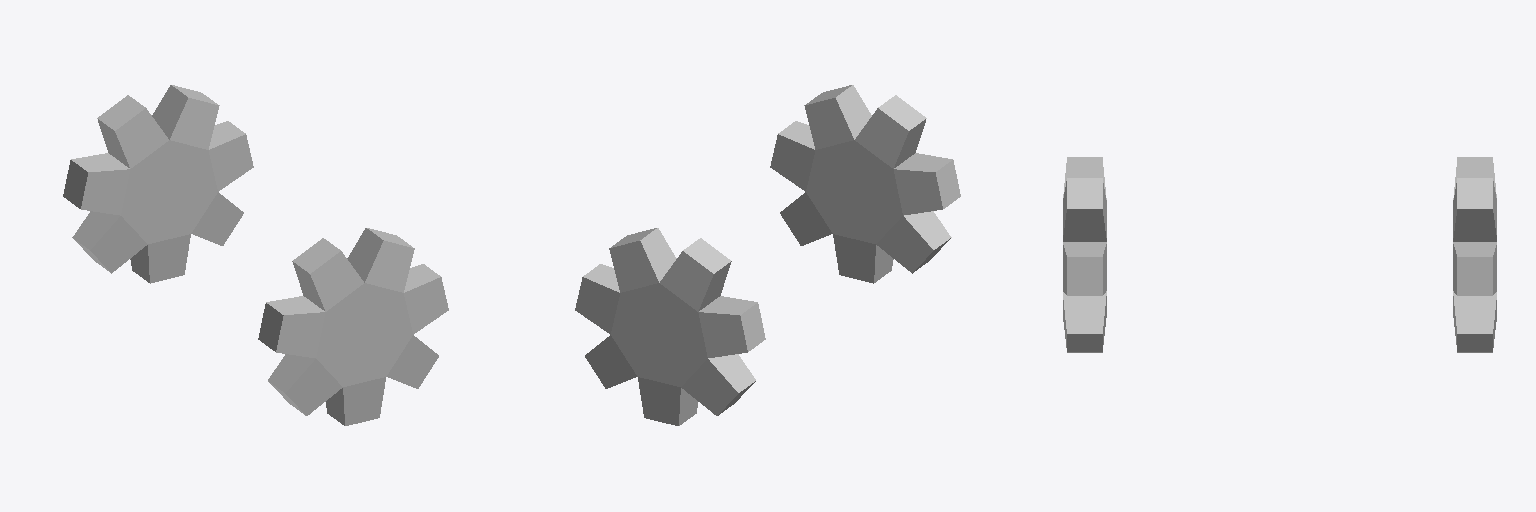
File: plate-up.obj
The picture shows the model from 3 angles: view 1: azimuth 30°, elevation 25°; view 2: azimuth 150°, elevation 25°; view 3: azimuth 270°, elevation 25°; orthographic projection.
Visible parts, largest first — view 1: Circle; view 2: Circle; view 3: Circle.
Part boxes in pixels (bbox=[...]): Circle: bbox=[63, 85, 448, 425]; Circle: bbox=[575, 85, 960, 425]; Circle: bbox=[1063, 157, 1496, 352].
Size of the model in its own units: 0.8671 by 0.8454 by 1.89.